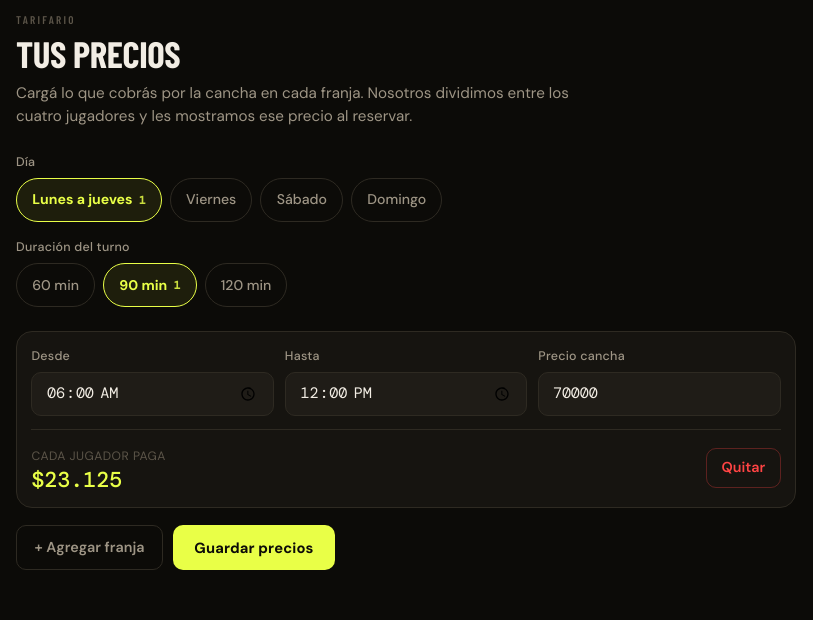
Test: el aviso de guardado › se limpia al cambiar de día, que es a lo que el aviso se refiere
The image size is (813, 620).
Click the button "Guardar precios": x=254, y=548 x1=173 y1=525 x2=335 y2=570
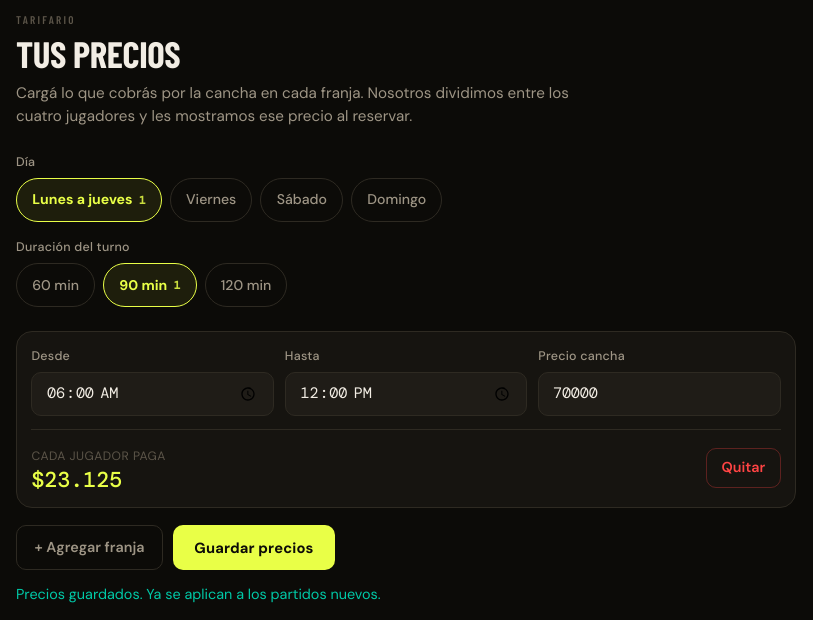
Result: the text "Precios guardados. Ya se aplican a los partidos nuevos." is shown at x1=16 y1=585 x2=381 y2=603
Click the button "Viernes": x=211, y=200 x1=170 y1=178 x2=252 y2=222
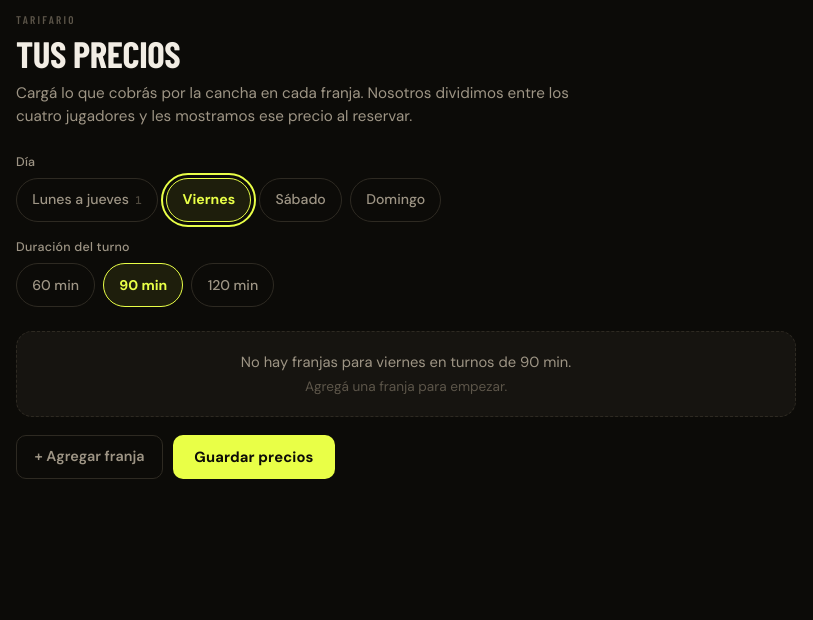
Result: the text "Precios guardados" is gone
